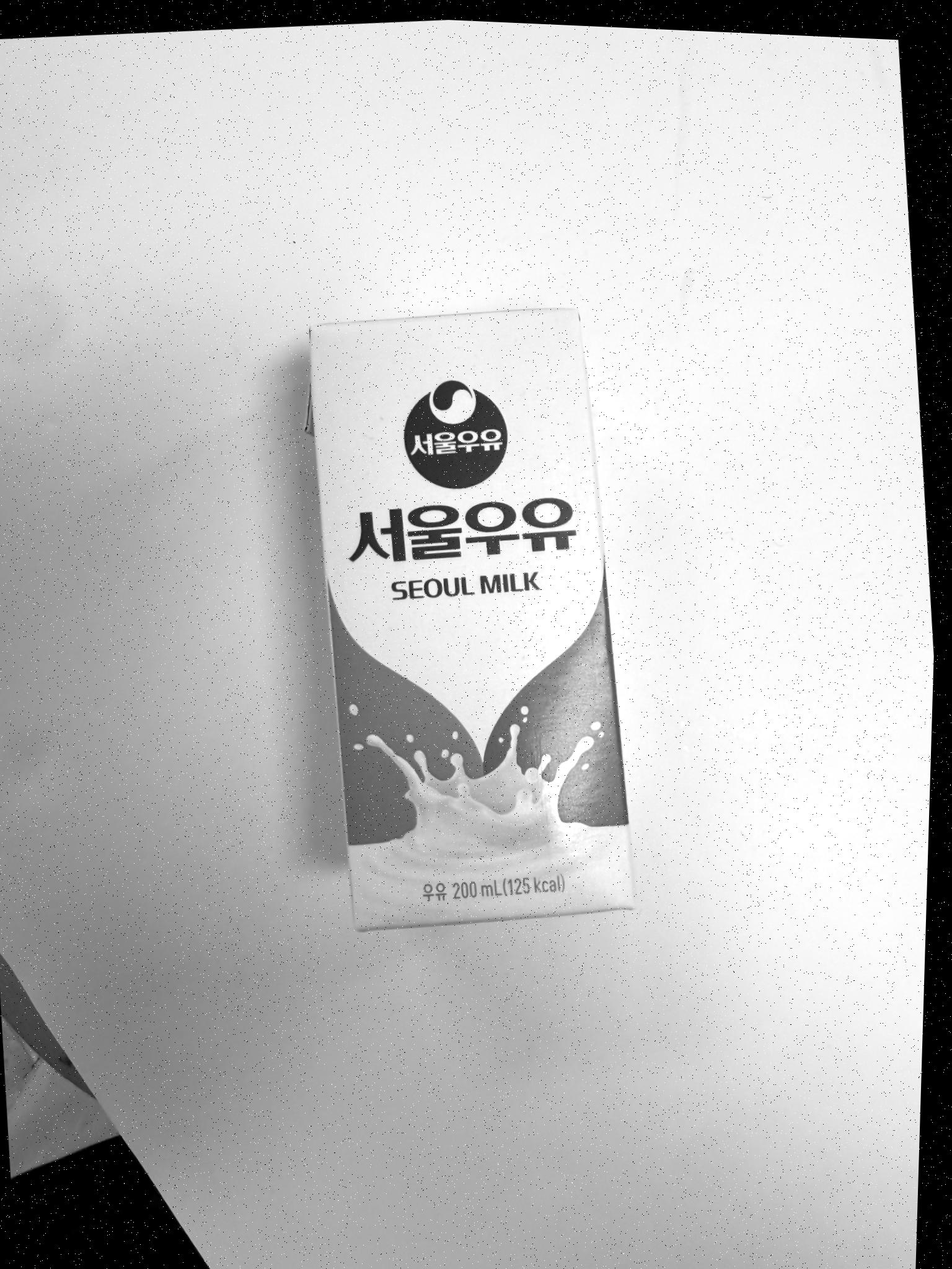milk_green: (302, 306, 635, 930)
